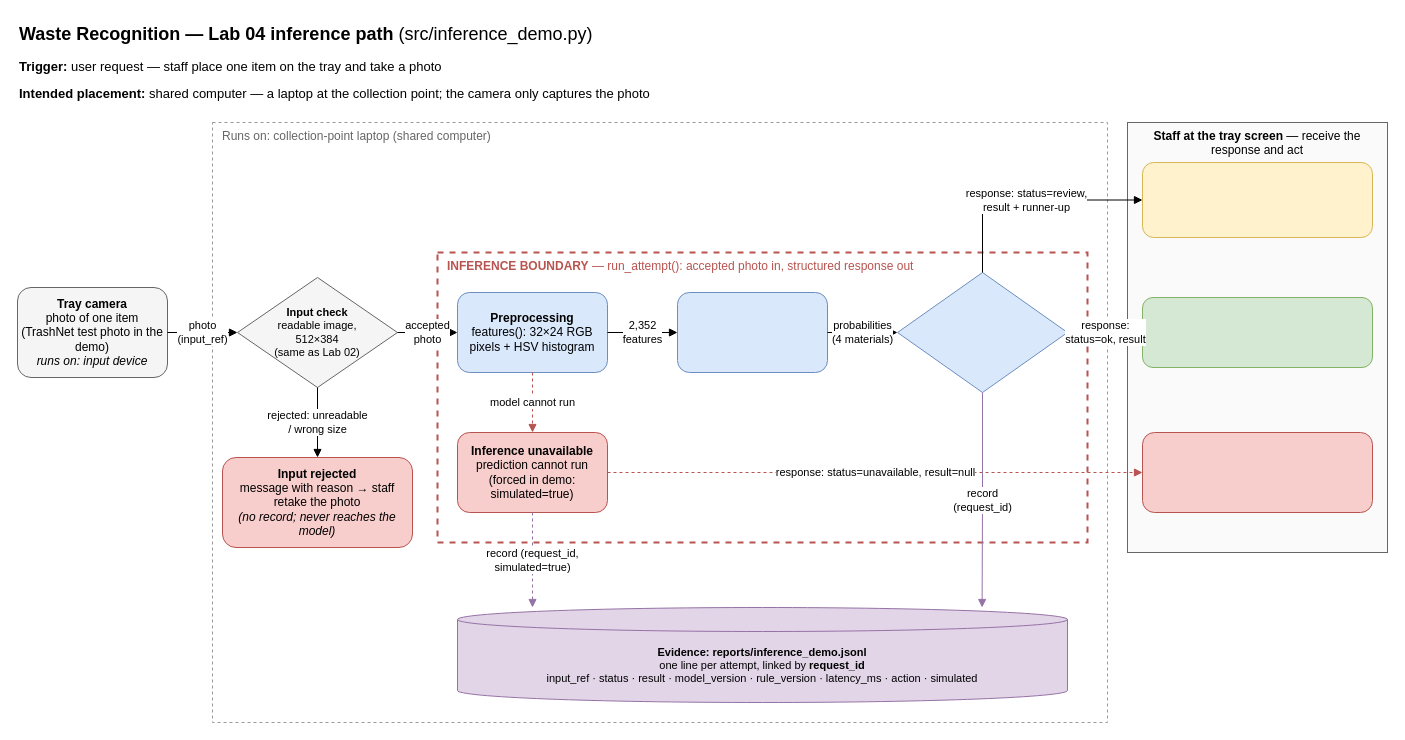
Image size: 1405x740. Some labels were removed from this diagram. The shapes that lost their labels are listed below. From the top down, each one's centre as x and y in pixels, then its label:
At point (1257, 200): "status = review show 'Check by hand' + top two materials; staff decide".
At point (752, 332): "Model baseline-v1 logistic regression models/baseline-v1.joblib".
At point (982, 332): "Decision decision-v1 review if confidence < 0.60 or glass runner-up ≥ 0.25".
At point (1257, 332): "status = ok show material; staff put the item in that container".
At point (1257, 472): "status = unavailable show 'Sorting assistant offline'; staff sort by hand".
